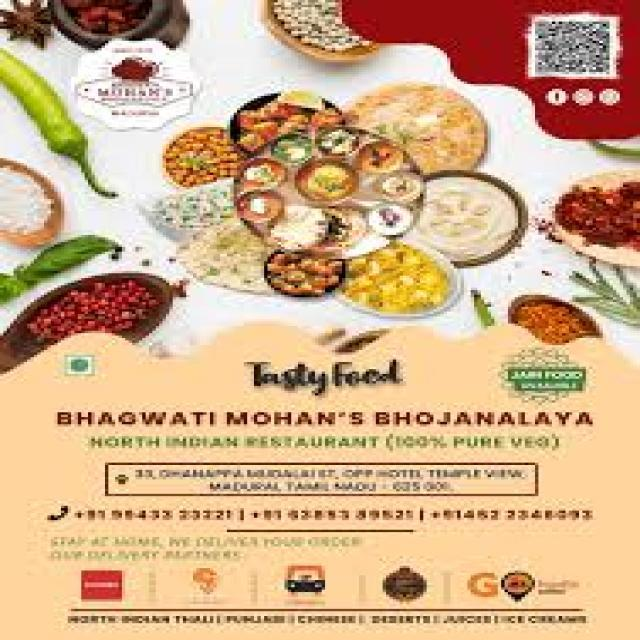pickle: (74, 42, 197, 118), (562, 174, 638, 257), (40, 0, 174, 47), (154, 127, 248, 191), (509, 300, 593, 344)
roti: (350, 82, 496, 180)
